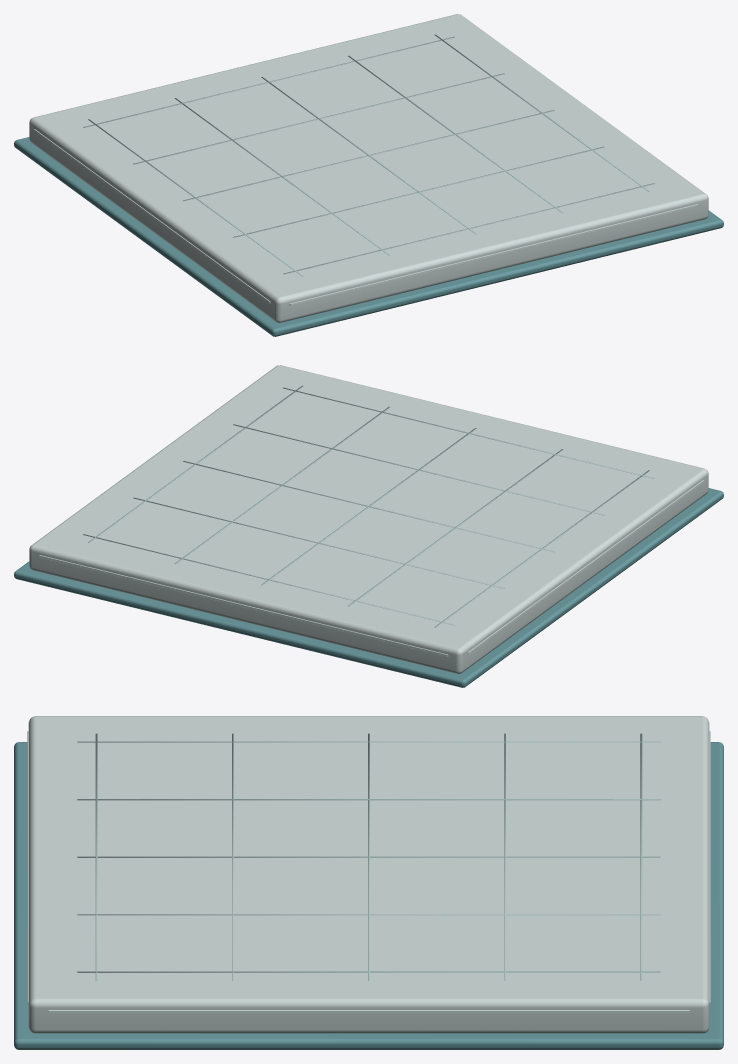
The model's file is plaza.glb.
3 renders of one model, top to bottom at view 1: azimuth 30°, elevation 25°; view 2: azimuth 150°, elevation 25°; view 3: azimuth 270°, elevation 25°, orthographic. The views are drawn at different scales.
Parts seen in each view (by area): view 1: plaza; view 2: plaza; view 3: plaza.
Boxes of the visible parts, <box> form: plaza: <box>14,14,723,336</box>; plaza: <box>14,365,723,687</box>; plaza: <box>14,716,723,1049</box>.
Size of the model in its own units: 29.2 by 2.02 by 29.2.
